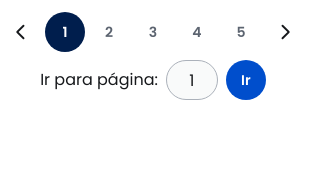
Test: Pagination › shows validation message for out of range page
Step 1. Replace the text in the number field named "Página" with "0" → (192, 80), box [166, 60, 218, 100]
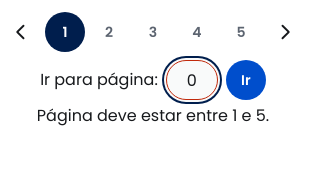
expect the text "Página deve estar entre 1 e 5." is shown: met, box [37, 104, 269, 128]
